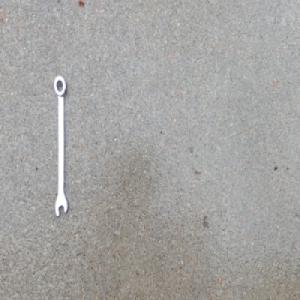Wrench: (52, 73, 68, 218)
